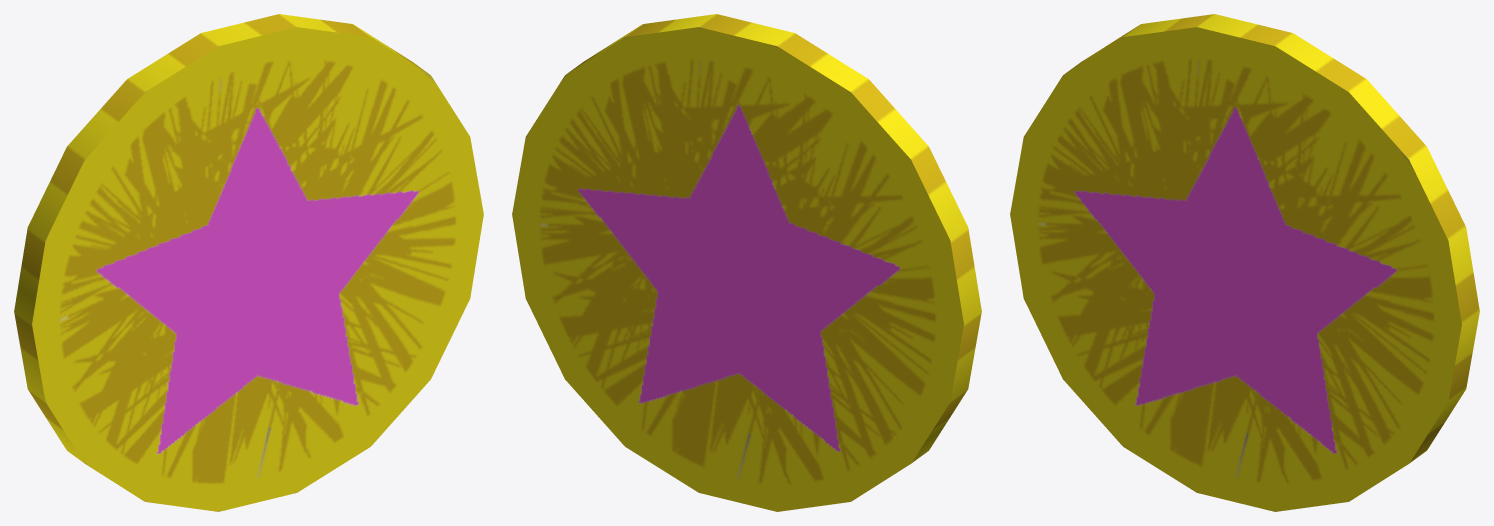
The model's file is pinkCoin.fbx.
The picture shows the model from 3 angles, left to right: view 1: azimuth 30°, elevation 25°; view 2: azimuth 150°, elevation 25°; view 3: azimuth 330°, elevation 25°; orthographic projection.
Parts seen in each view (by area): view 1: Pink_Coin_geo; view 2: Pink_Coin_geo; view 3: Pink_Coin_geo.
Part boxes in pixels (x1,y1,x2,y2): Pink_Coin_geo: (14, 14, 483, 511); Pink_Coin_geo: (512, 14, 981, 511); Pink_Coin_geo: (1010, 14, 1479, 511).
Bounding box in the file's own units: 123 × 121 × 8.45.
